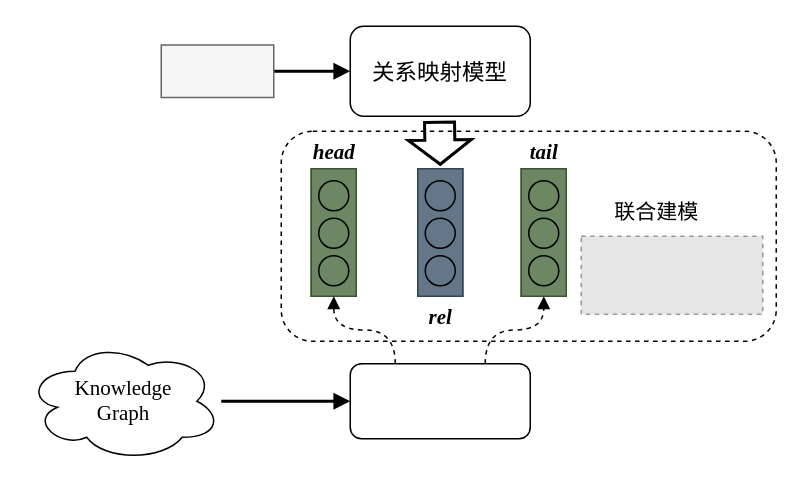
The diagram is 803 pixels wide and 488 high, and some of its shapes have lost their labels. Grey dashed boxes stand in for pictures. The centre of each missing label's shape, as x and y in pixels:
"MER-Tuck 表示学习模型" goes at pixel 439 400.
"Question" goes at pixel 217 71.
